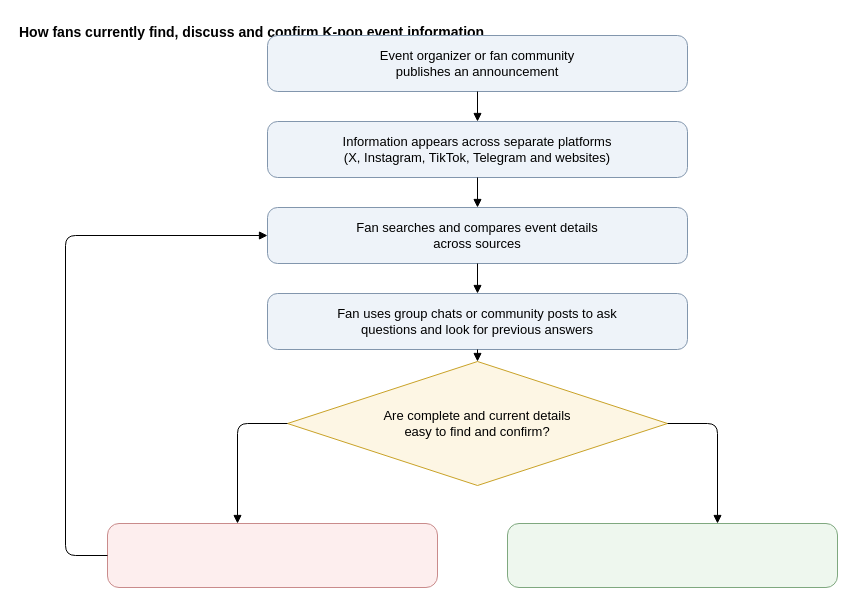
The diagram is 855 pixels wide and 605 high, and some of its shapes have lost their labels. Here are the shapes that lost their labels. From the top down, the centre of each, then its label:
At point 272,555: "Fan searches other posts, revisits sources, or asks the same question again".
At point 672,555: "Fan uses the information found to plan attendance".
